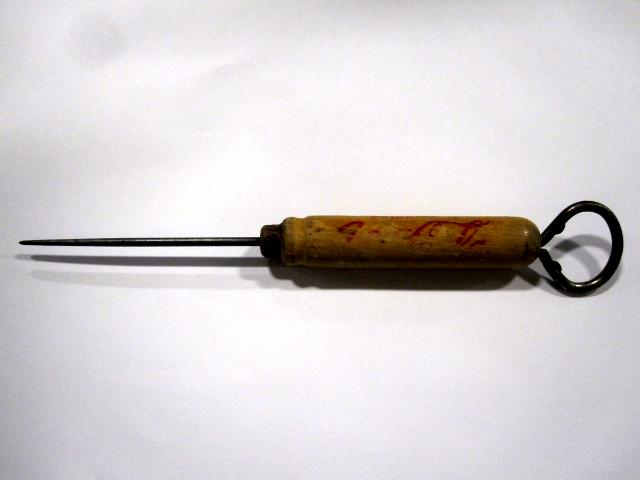ice pick: (19, 214, 541, 270)
